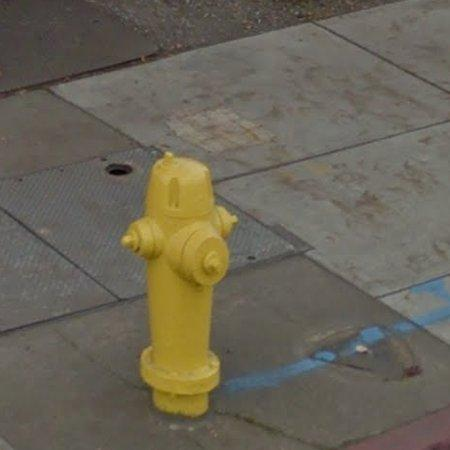a fire hydrant: (121, 152, 238, 418)
